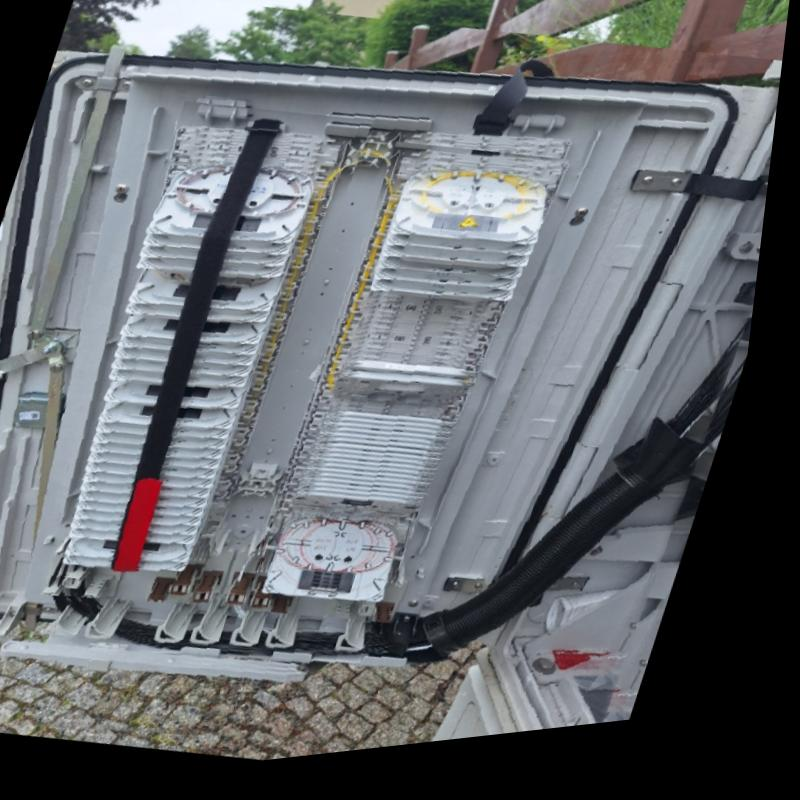NT-Gehause: (0, 59, 786, 753)
Spleiskassetten: (37, 89, 381, 637), (257, 135, 592, 658)
